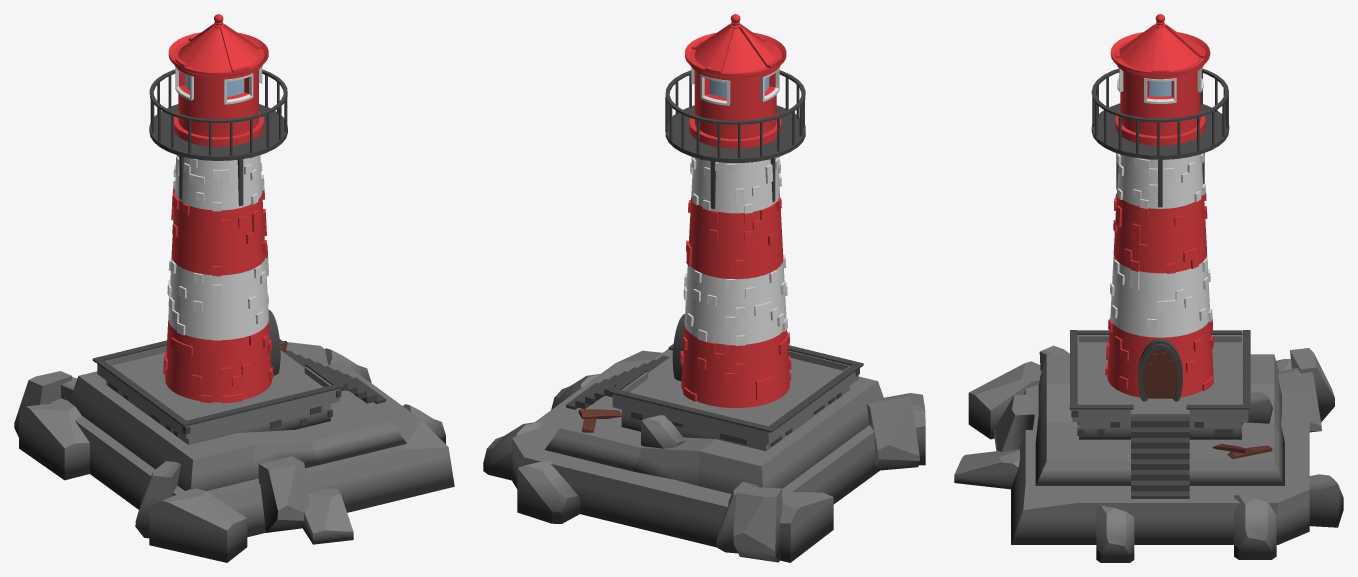
Rendered from lighthouse.fbx.
3 renders of one model, left to right at view 1: azimuth 30°, elevation 25°; view 2: azimuth 150°, elevation 25°; view 3: azimuth 270°, elevation 25°, orthographic. The views are drawn at different scales.
Parts seen in each view (by area): view 1: rocks, lighthouse, lighthouse2; view 2: rocks, lighthouse, lighthouse2, wood; view 3: rocks, lighthouse, lighthouse2, wood.
Part boxes in pixels (bbox=[...]): rocks: bbox=[14, 342, 454, 562]; lighthouse: bbox=[163, 14, 273, 403]; lighthouse2: bbox=[92, 69, 385, 437]; rocks: bbox=[483, 349, 925, 562]; lighthouse: bbox=[680, 14, 791, 407]; lighthouse2: bbox=[566, 70, 863, 446]; wood: bbox=[578, 409, 621, 432]; rocks: bbox=[954, 334, 1343, 562]; lighthouse: bbox=[1105, 14, 1213, 397]; lighthouse2: bbox=[1069, 68, 1250, 498]; wood: bbox=[1143, 349, 1272, 458].
Bounding box in the file's own units: 443 × 590 × 456.
Materials: 6 (1 with a texture image).
